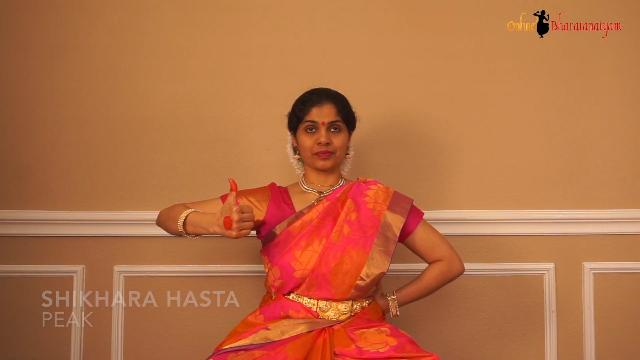shikhar: (208, 179, 262, 265)
